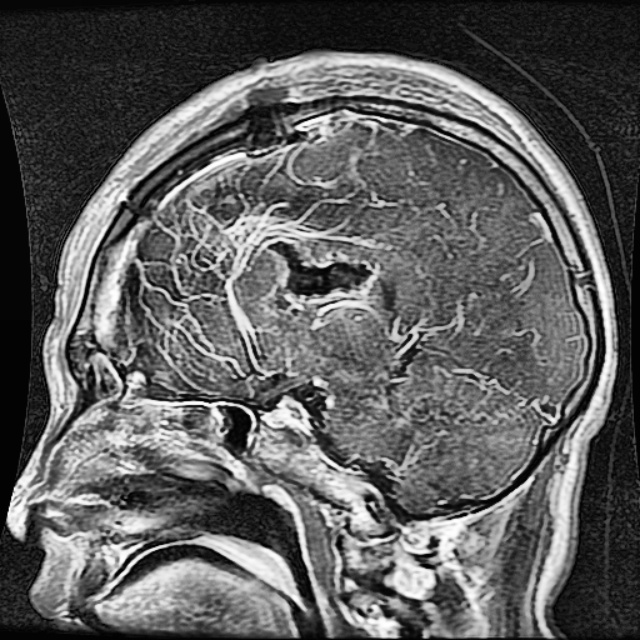Meningioma: (258, 237, 378, 312)
